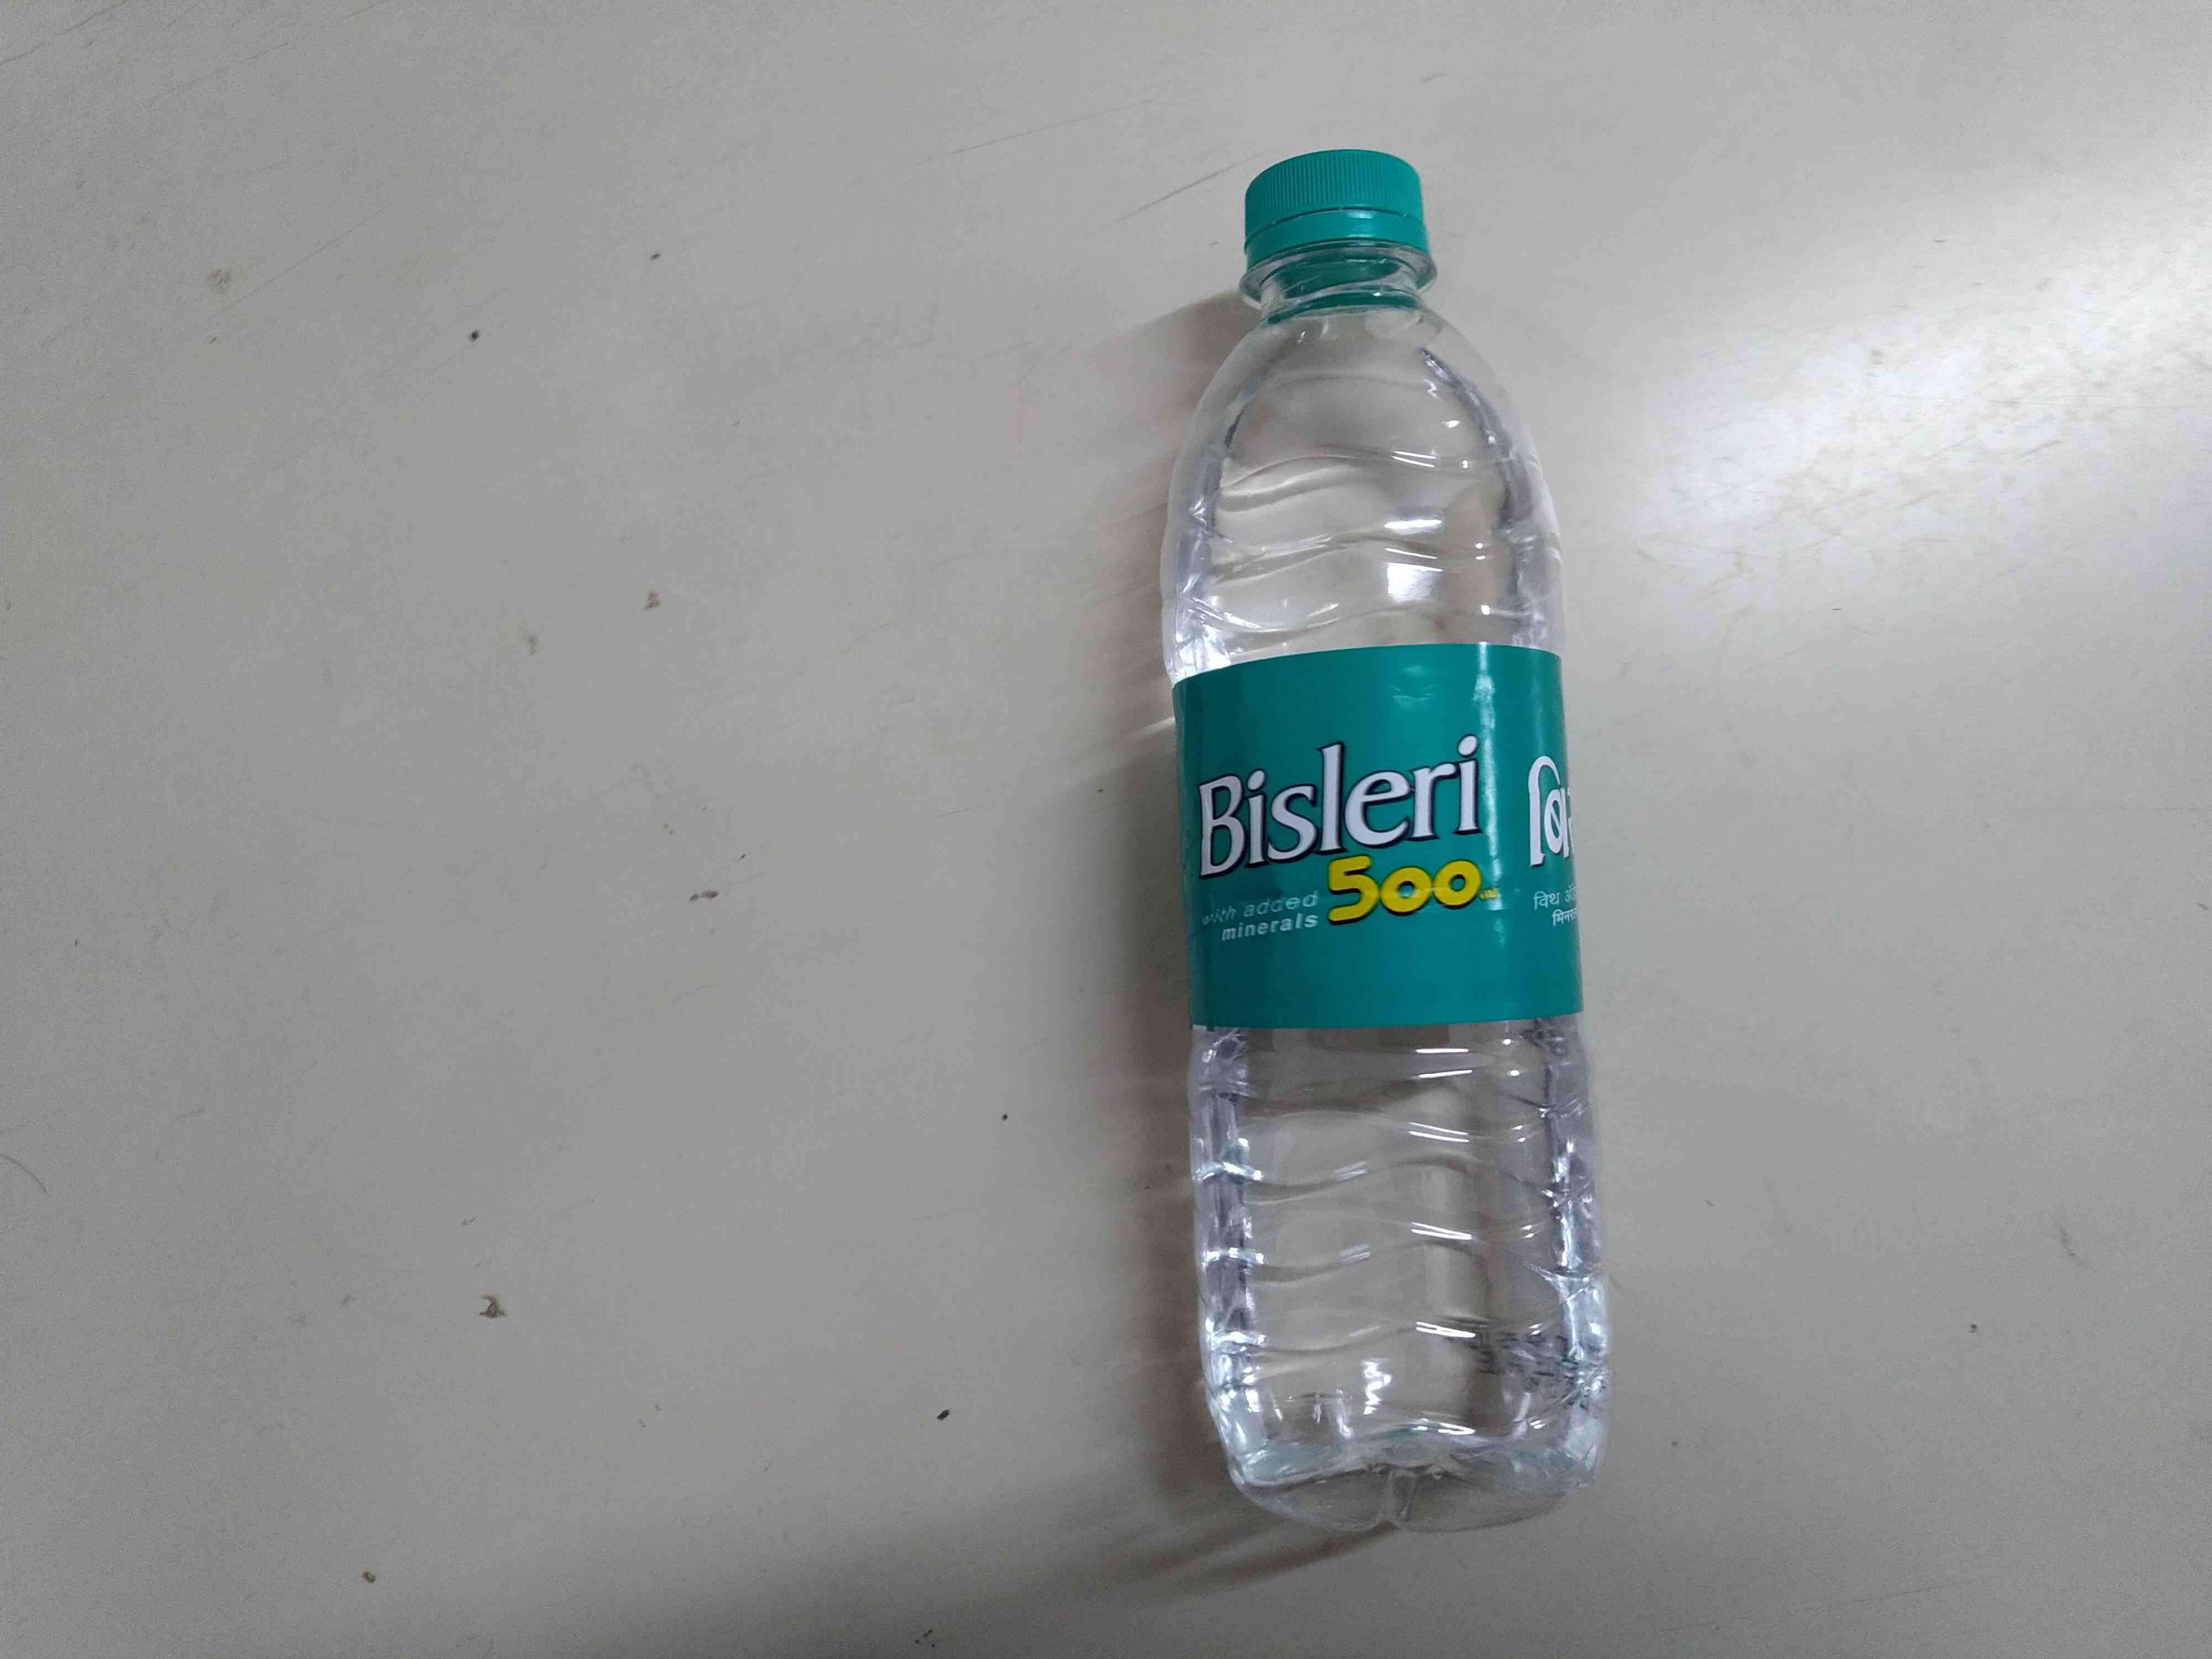Bisleri: (1186, 683, 1583, 993)
